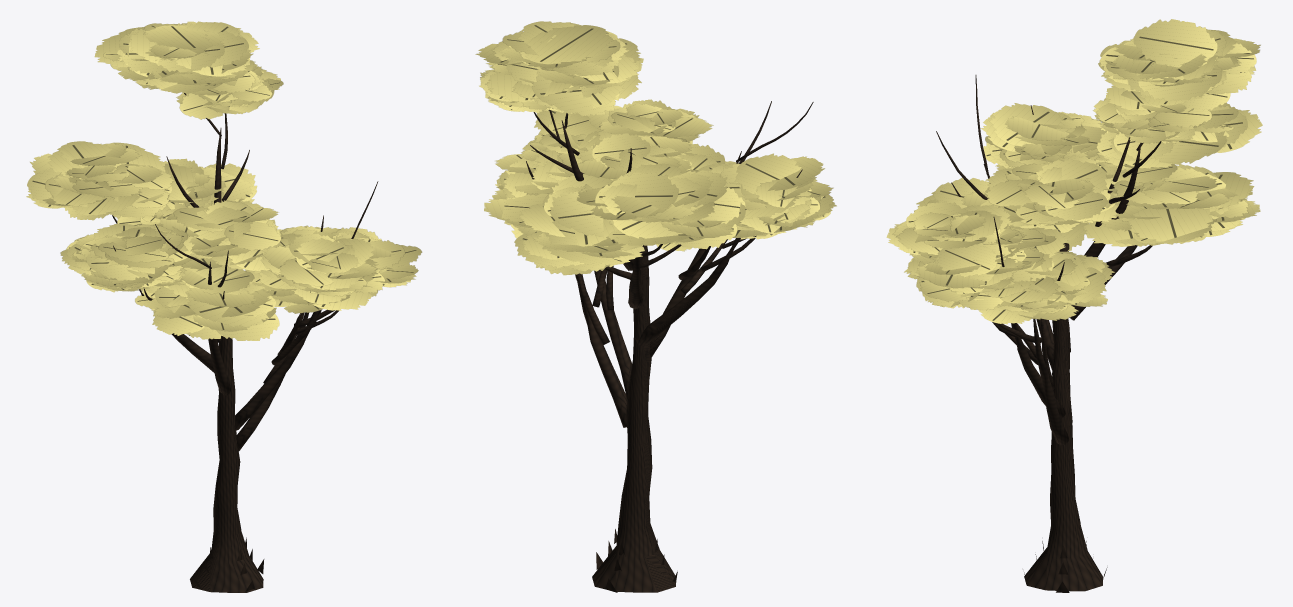
File: oak.glb
The picture shows the model from 3 angles, left to right: view 1: azimuth 30°, elevation 25°; view 2: azimuth 150°, elevation 25°; view 3: azimuth 270°, elevation 25°; orthographic projection. The views are drawn at different scales.
Visible parts, largest first — view 1: canopy_5, canopy_10, trunk, canopy_13, canopy_14, canopy_9, canopy_4, canopy_1, canopy_3, canopy_11, canopy_15, canopy_12 (+5 smaller); view 2: canopy_5, trunk, canopy_15, canopy_9, canopy_13, canopy_11, canopy_14, canopy_4, canopy_12, branch_3, branch_0, canopy_7 (+7 smaller); view 3: canopy_15, trunk, canopy_14, canopy_13, canopy_12, canopy_4, canopy_5, canopy_9, canopy_11, canopy_1, canopy_2, canopy_7 (+8 smaller).
Boxes of the visible parts, x1,y1,x2,y2 form: canopy_5: (26, 141, 174, 220); canopy_10: (135, 265, 279, 340); trunk: (190, 336, 264, 592); canopy_13: (110, 21, 253, 93); canopy_14: (159, 200, 281, 271); canopy_9: (60, 227, 194, 292); canopy_4: (260, 233, 377, 291); canopy_1: (176, 60, 283, 119); canopy_3: (251, 233, 385, 313); canopy_11: (94, 22, 259, 89); canopy_15: (110, 158, 257, 214); canopy_12: (333, 231, 422, 296); canopy_5: (577, 163, 745, 249); trunk: (592, 245, 677, 592); canopy_15: (484, 173, 644, 275); canopy_9: (708, 153, 836, 237); canopy_13: (486, 21, 643, 114); canopy_11: (475, 26, 628, 116); canopy_14: (577, 133, 725, 180); canopy_4: (587, 99, 713, 148); canopy_12: (519, 110, 602, 162); branch_3: (635, 238, 739, 346); branch_0: (577, 273, 627, 427); canopy_7: (495, 153, 573, 197); canopy_15: (1084, 164, 1260, 246); trunk: (1024, 243, 1107, 592); canopy_14: (980, 155, 1126, 226); canopy_13: (1098, 19, 1241, 105); canopy_12: (915, 242, 1032, 310); canopy_4: (886, 201, 1026, 260); canopy_5: (1096, 102, 1262, 168); canopy_9: (981, 103, 1108, 168); canopy_11: (1114, 27, 1260, 110); canopy_1: (1093, 85, 1212, 143); canopy_2: (996, 251, 1114, 320); canopy_7: (968, 248, 1090, 324).
Size of the model in its own units: 9.11 by 14.04 by 9.29.
2 materials, 2 textured.
